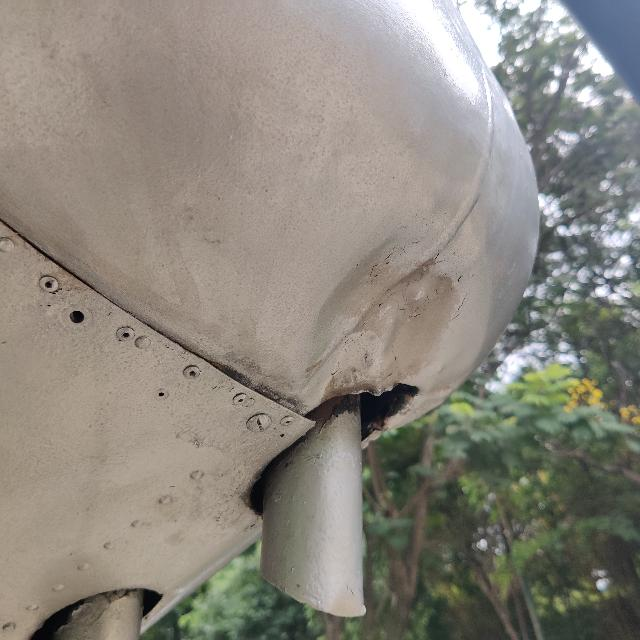dent: (286, 210, 484, 424)
